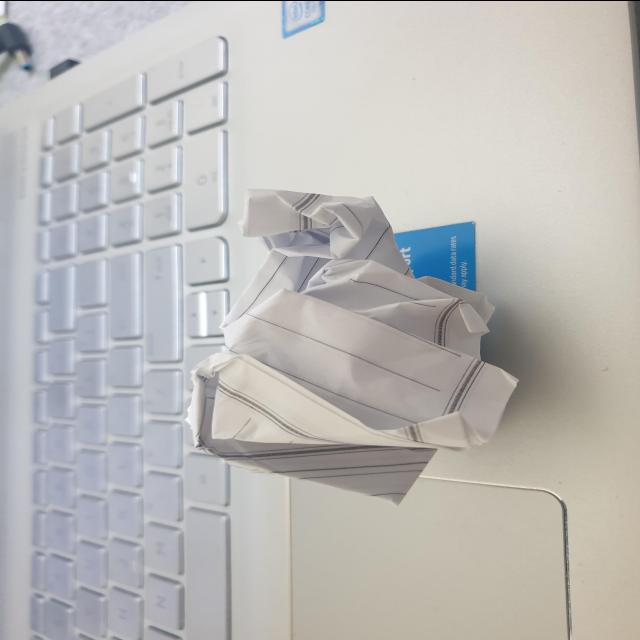kertas: (177, 182, 526, 508)
